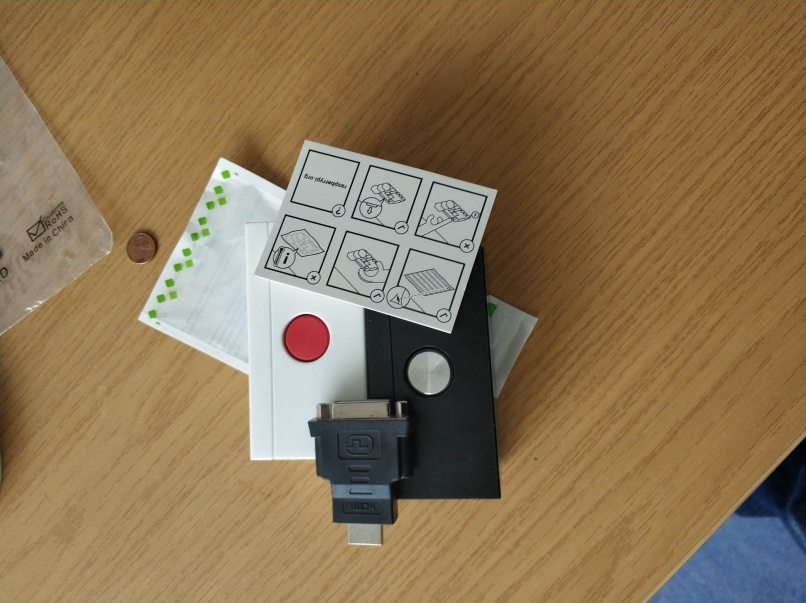black+black+silver: (368, 243, 503, 503)
white+white+red: (241, 216, 368, 461)
